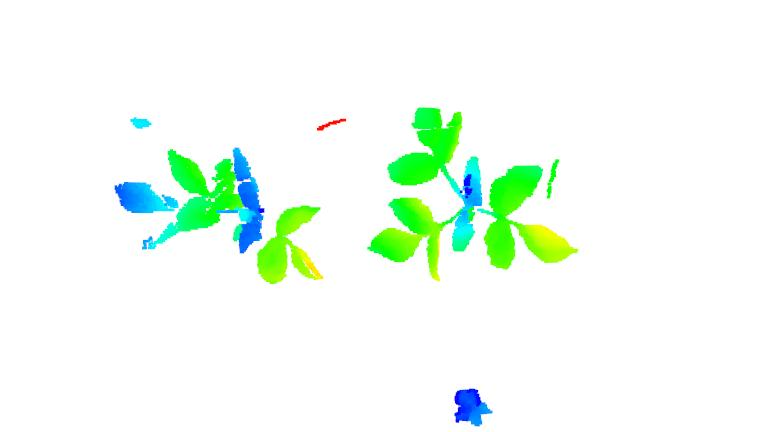mungbean: (368, 106, 581, 280), (110, 145, 326, 282)
